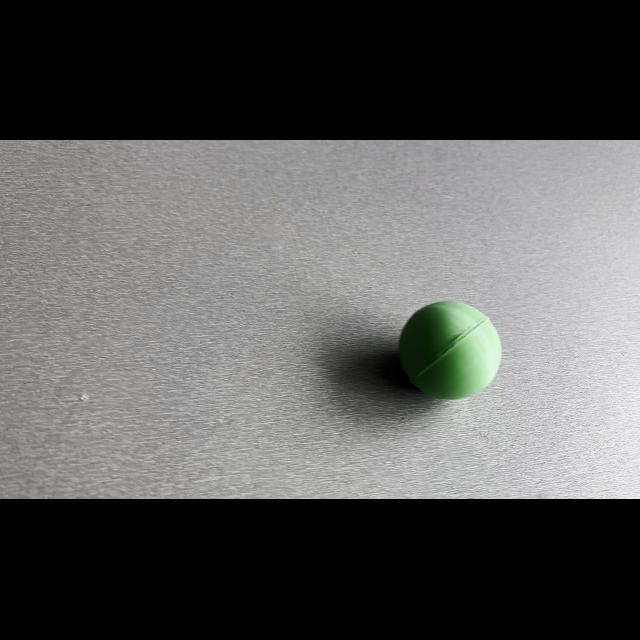objects: (383, 294, 511, 410)
